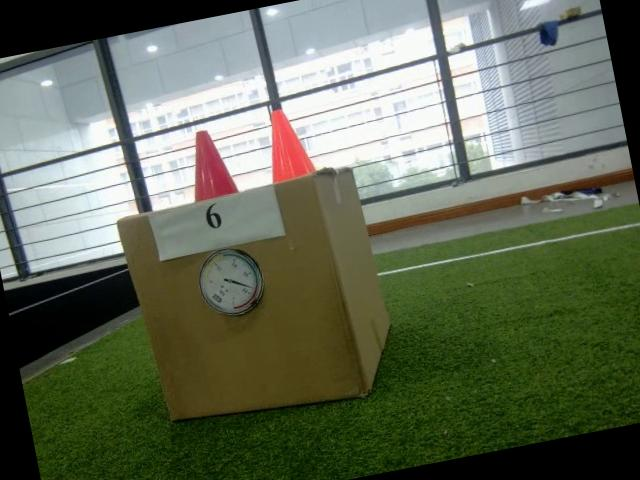6: (202, 202, 224, 230)
Dashboard: (193, 243, 270, 323)
orange_barrel: (257, 103, 317, 183)
red_barrel: (178, 123, 240, 202)
ssi: (210, 290, 222, 304)
